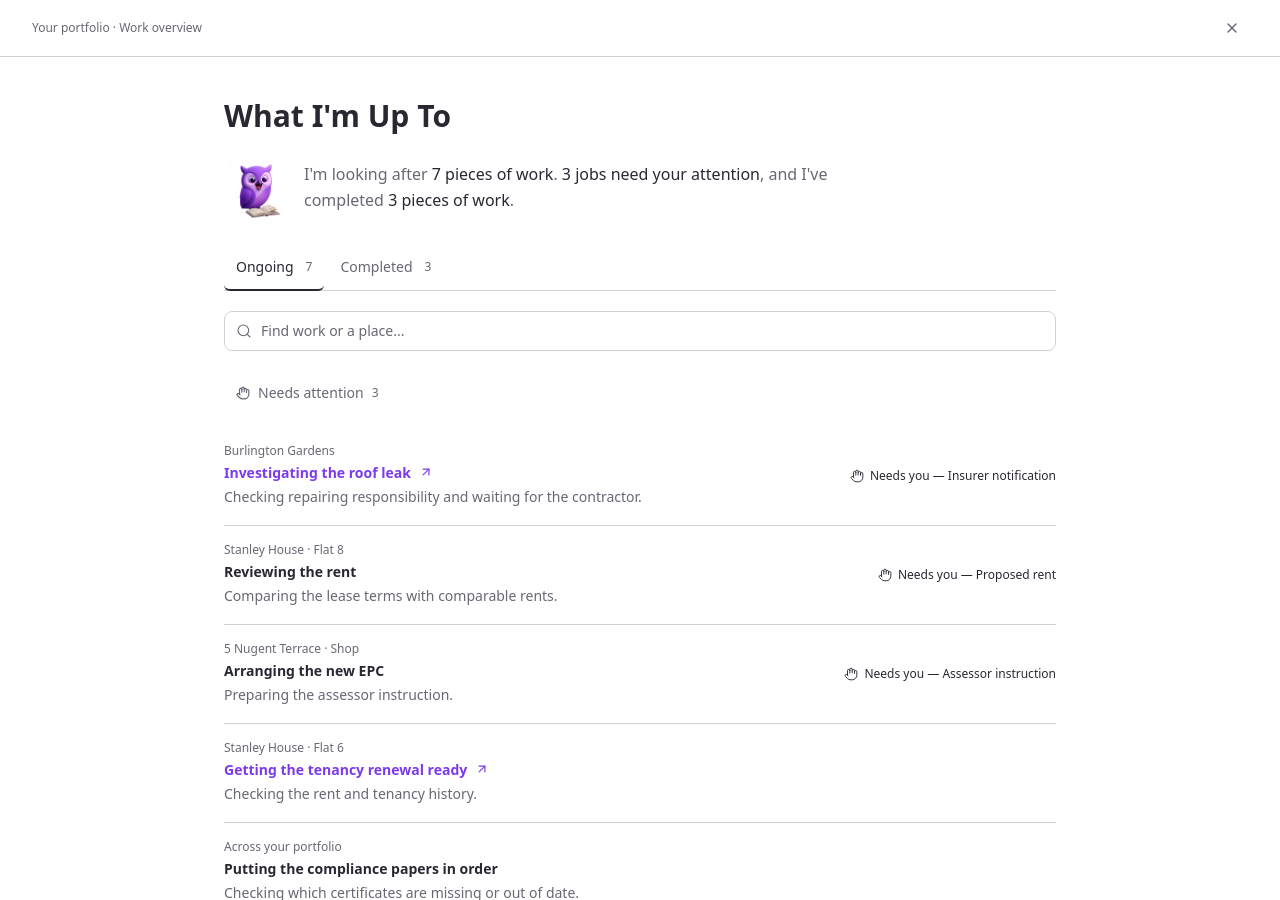
Test case: Illustrative work journey › preserves established findings and pause state when returning to the overview
Later steps or results of the test are not shown.
Step 1. Click the button "Getting the tenancy renewal ready" → (357, 769), box left=224, top=760, right=489, bottom=779
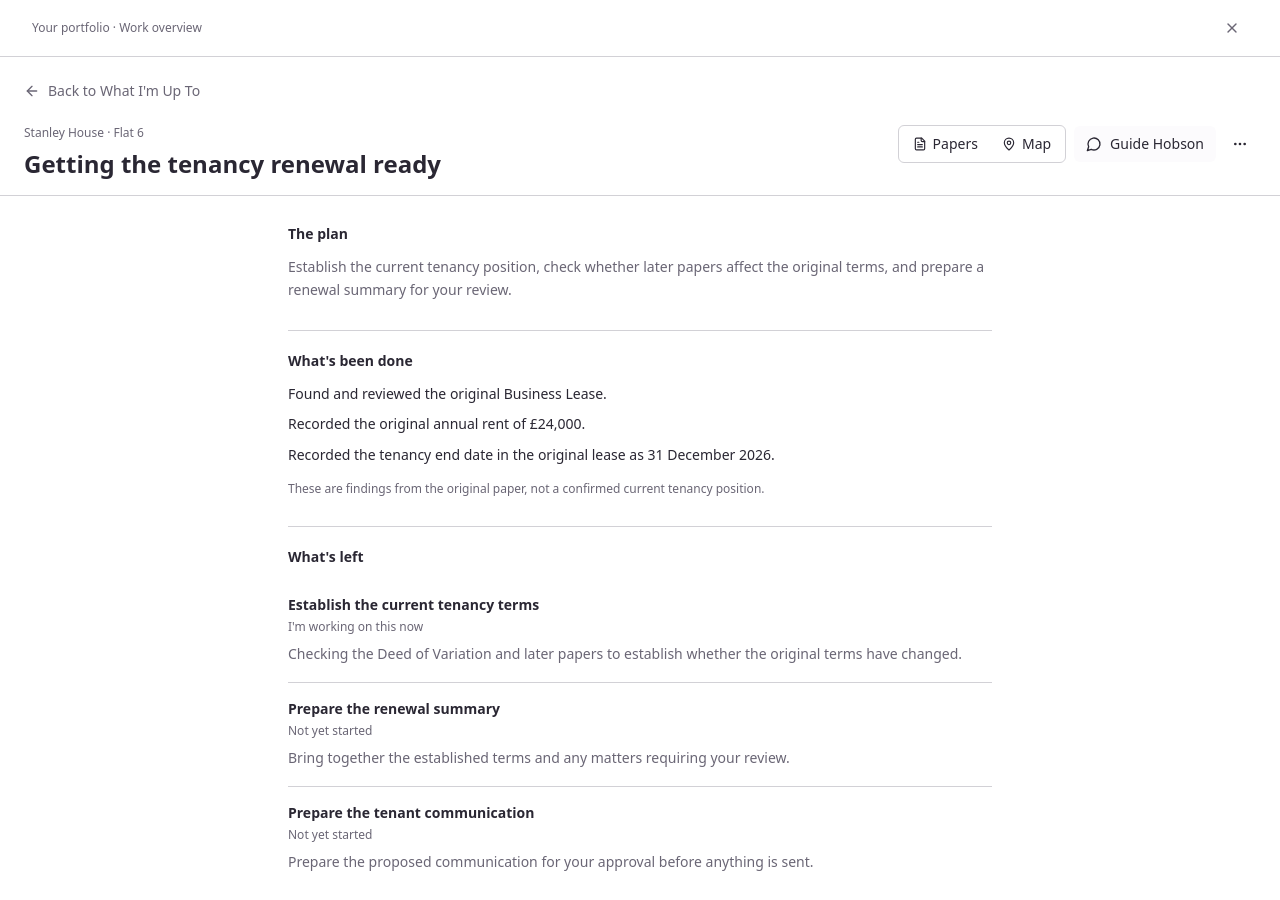
Step 2. Click the button "Establish the current tenancy terms" → (414, 605), box left=288, top=579, right=992, bottom=682
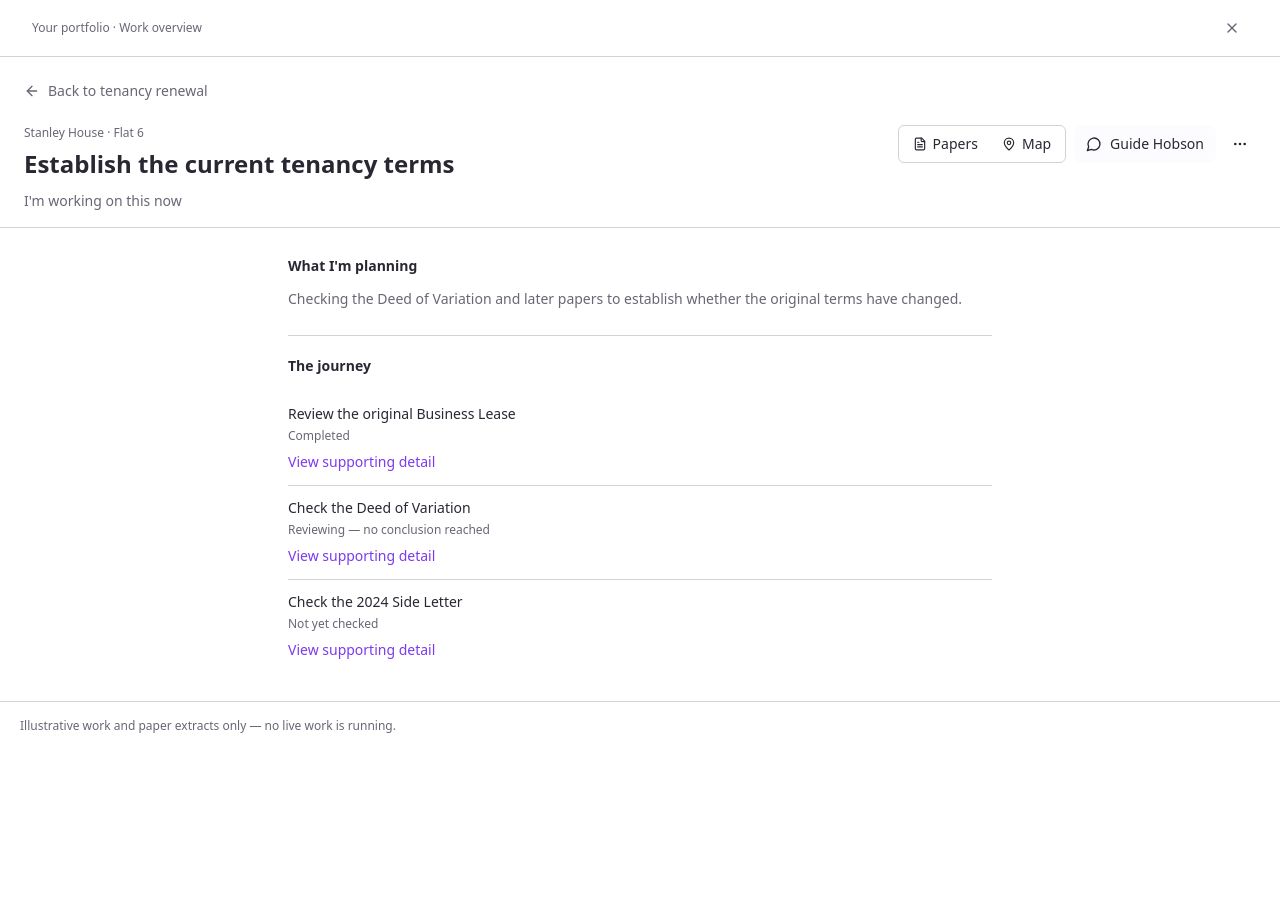
Step 3. Click the button "View supporting detail" below "Check the Deed of Variation" → (362, 556), box left=288, top=546, right=435, bottom=566
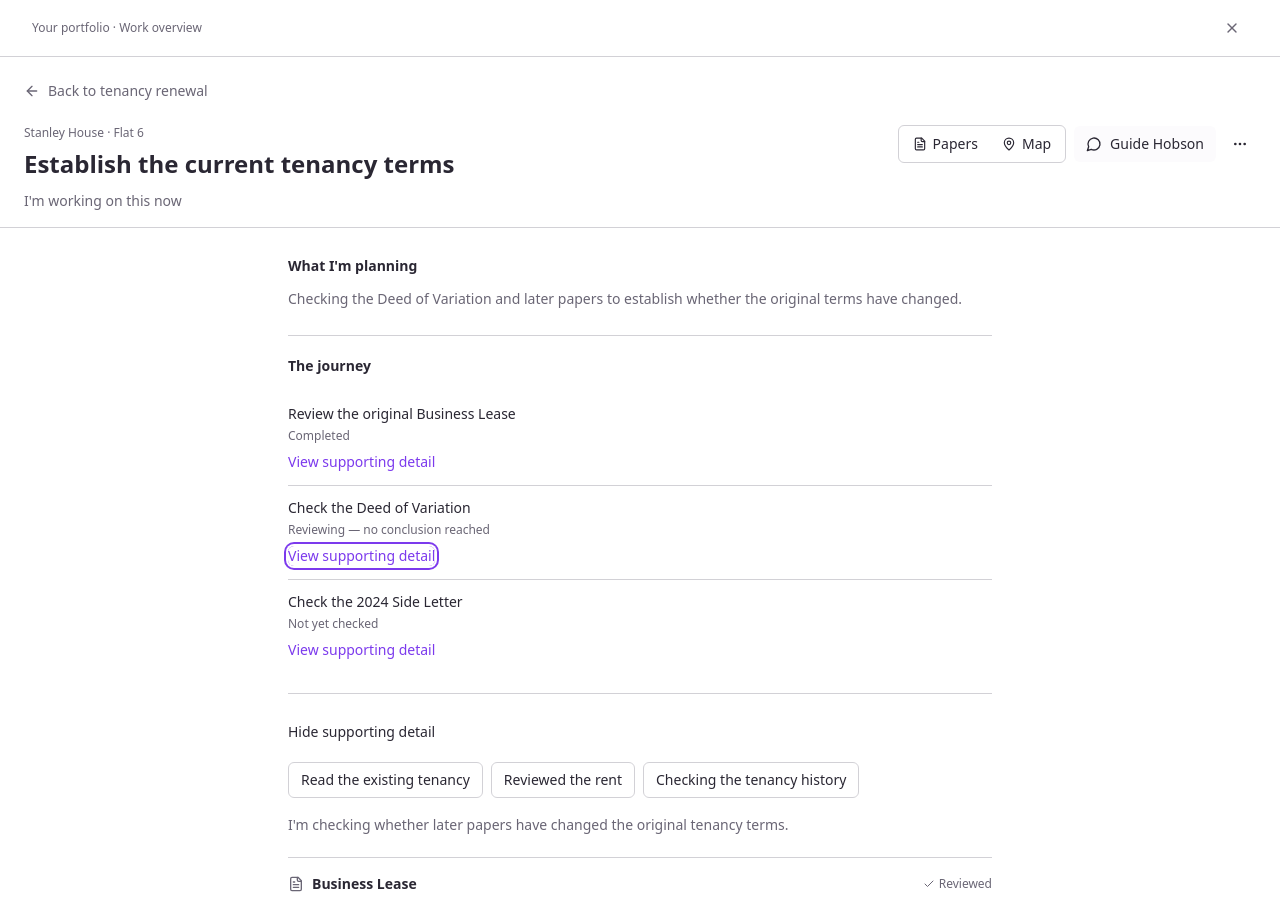
Step 4. Click the button named "More work options" → (1240, 144), box left=1224, top=128, right=1256, bottom=160
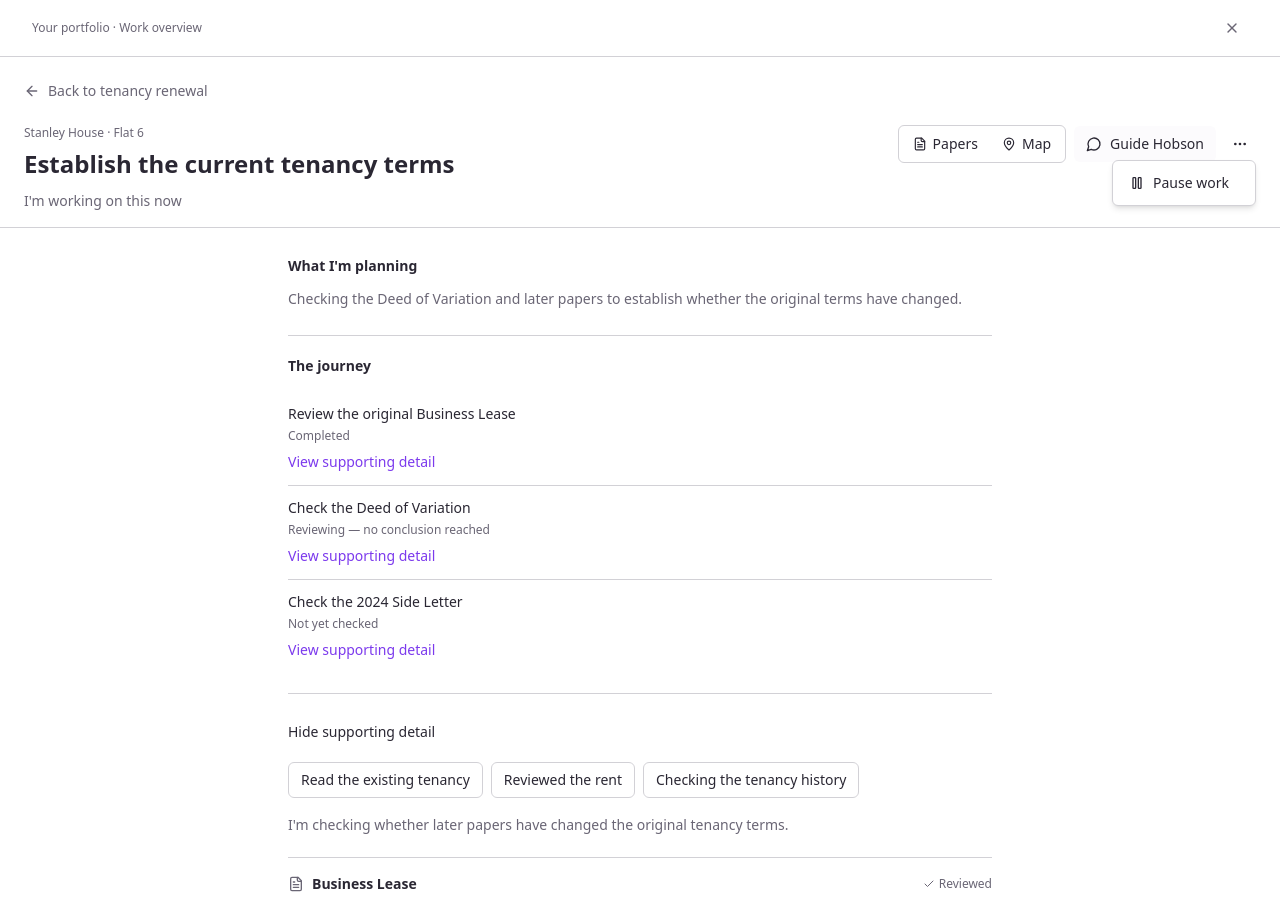
Step 5. Click the menu item "Pause work" → (1184, 183), box left=1117, top=165, right=1251, bottom=201
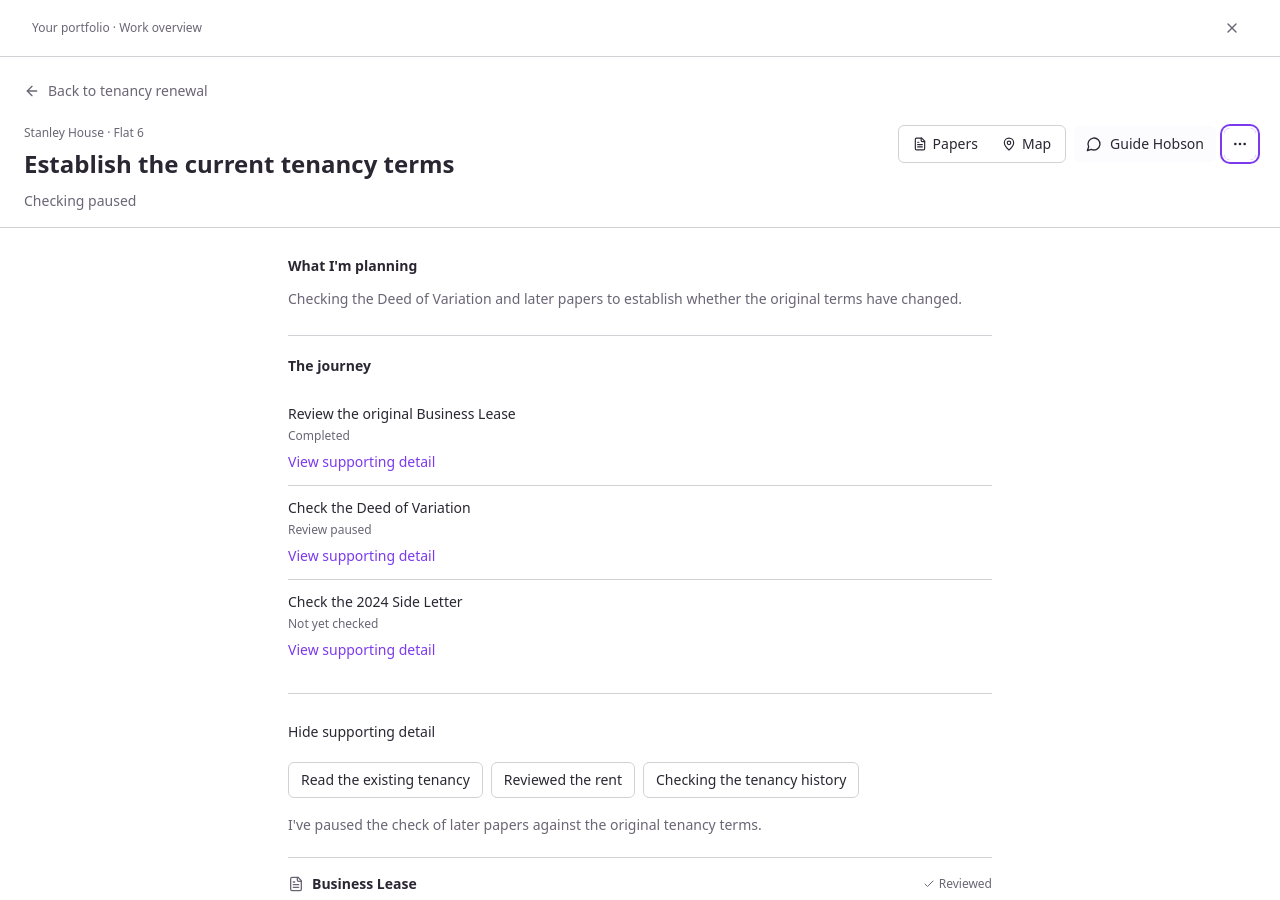
Step 6. Click the button named "More work options" → (1240, 144), box left=1224, top=128, right=1256, bottom=160
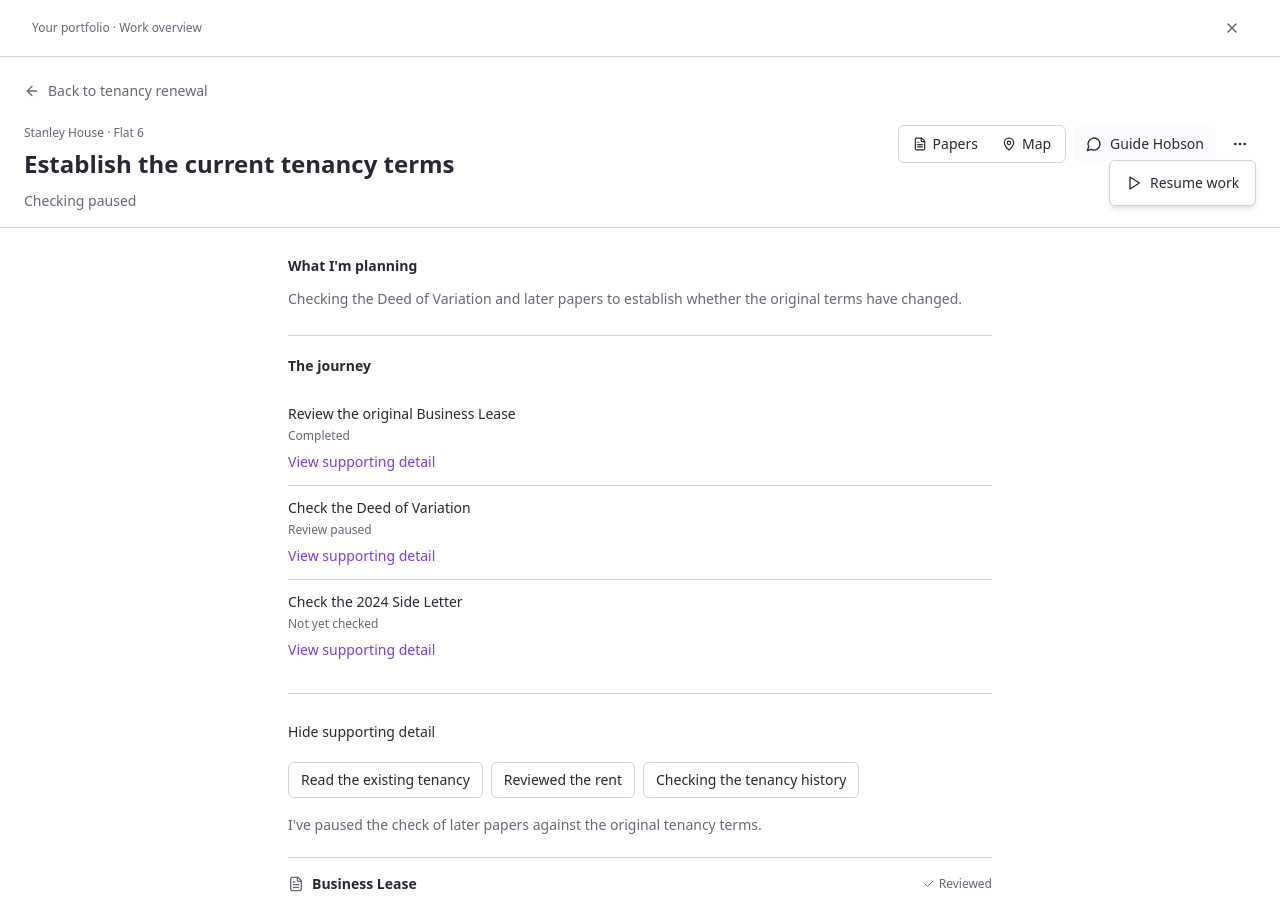
Now the menu item "Resume work" is enabled, box left=1114, top=165, right=1251, bottom=201
